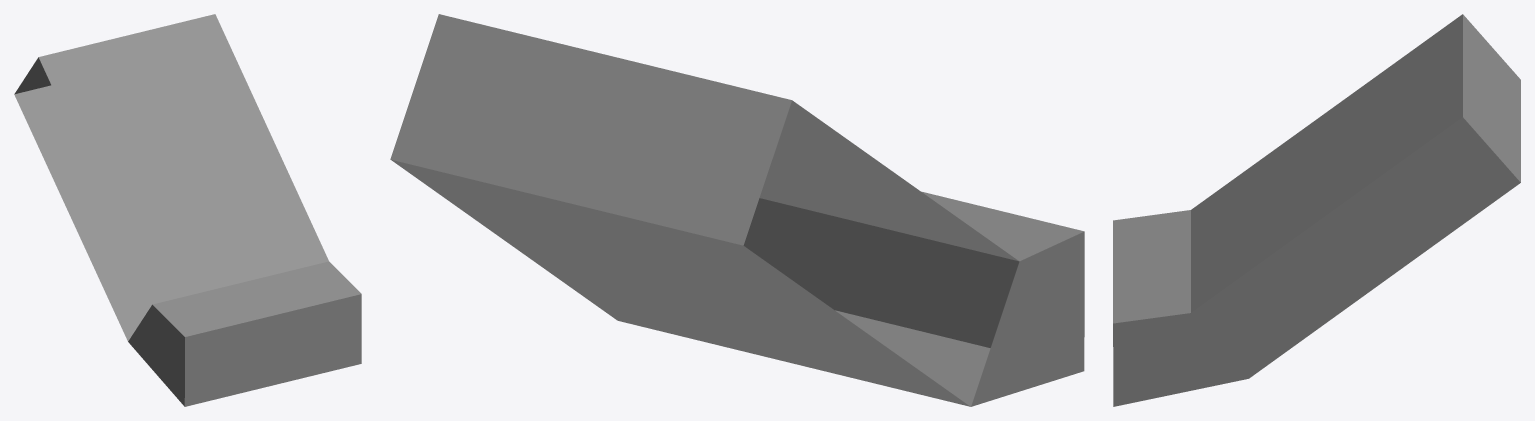
File: SW_ENV_Railing_StairWall_Base_Collision.fbx
3 renders of one model, left to right at view 1: azimuth 30°, elevation 25°; view 2: azimuth 150°, elevation 25°; view 3: azimuth 270°, elevation 25°, orthographic. The views are drawn at different scales.
Parts seen in each view (by area): view 1: SW_ENV_Railing_StairWall_Base_Collision; view 2: SW_ENV_Railing_StairWall_Base_Collision; view 3: SW_ENV_Railing_StairWall_Base_Collision.
Boxes of the visible parts, <box> form: SW_ENV_Railing_StairWall_Base_Collision: <box>14,14,361,406</box>; SW_ENV_Railing_StairWall_Base_Collision: <box>390,14,1084,406</box>; SW_ENV_Railing_StairWall_Base_Collision: <box>1113,14,1520,406</box>.
Size of the model in its own units: 0.1856 by 0.2434 by 0.3103.
